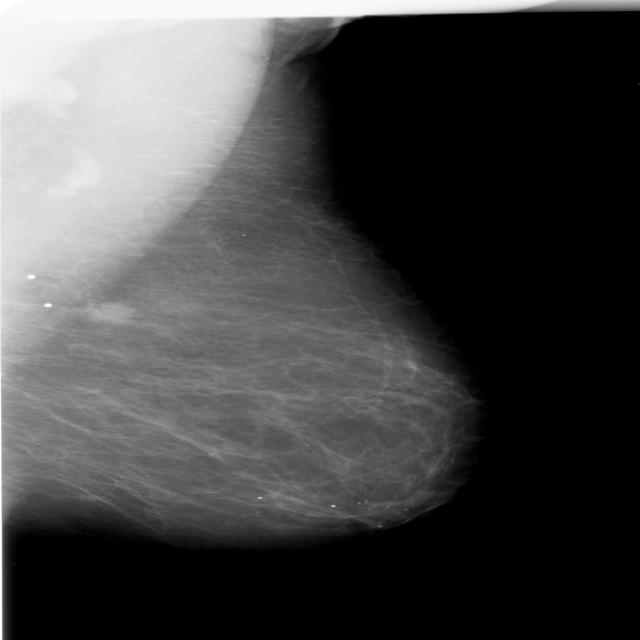normal: (0, 0, 477, 561)
